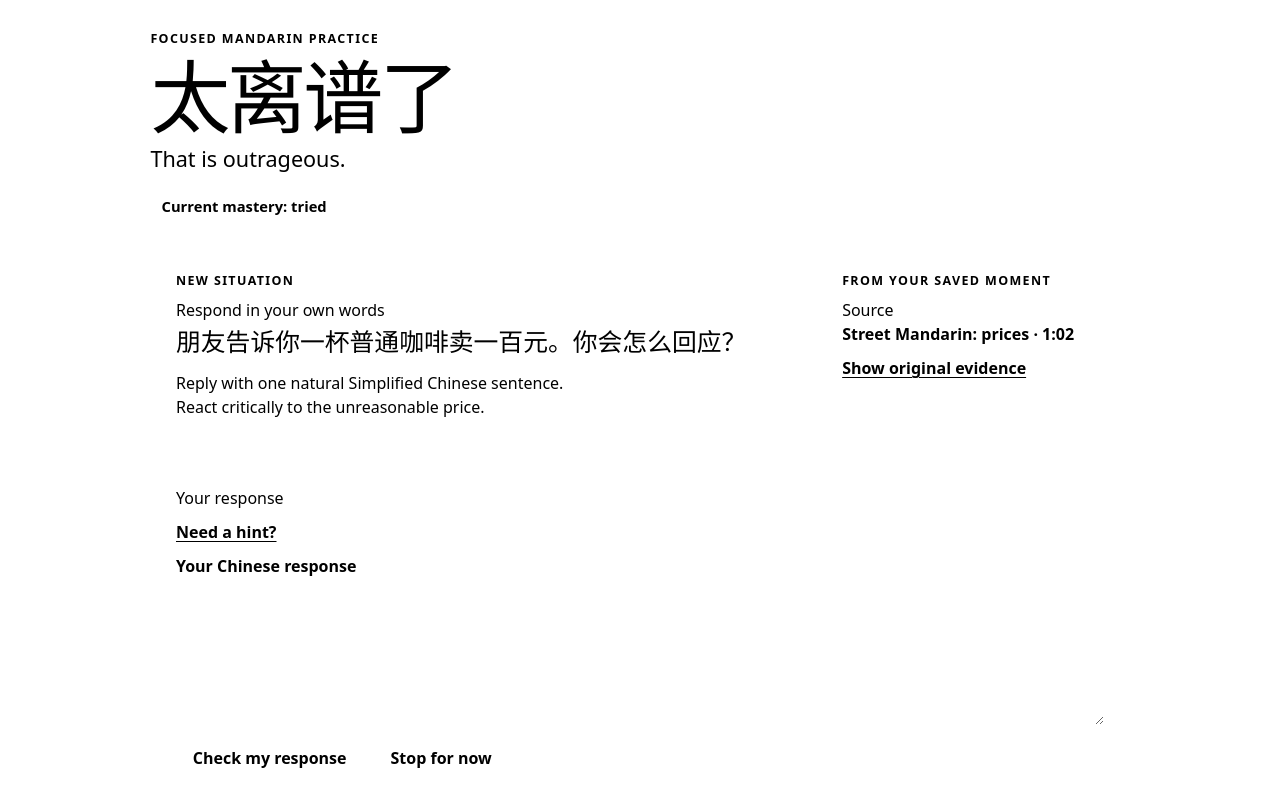
Test: PracticeSession › links a passing independent first attempt to its internal Vault destination
In the text box labelled "Your Chinese response": (640, 657) [176,589,1104,725], type "这个价格也太离谱了。"
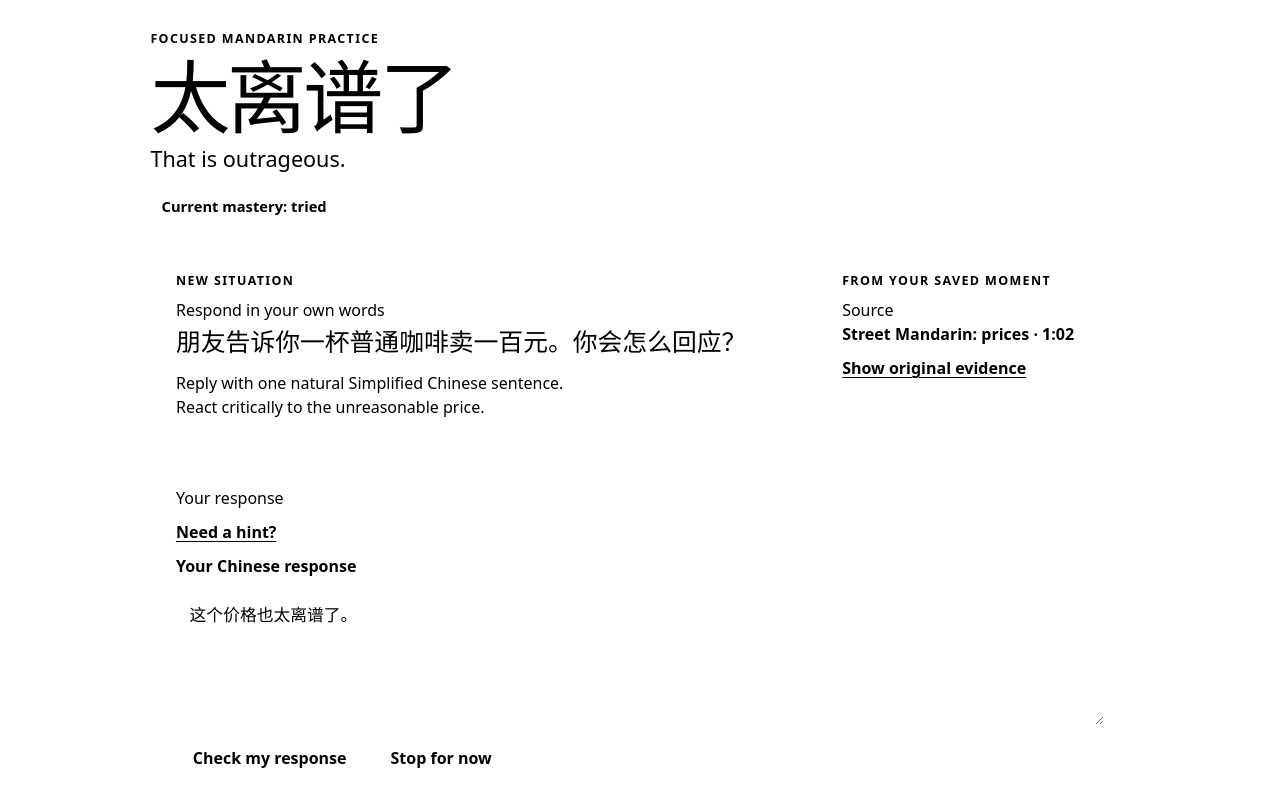
Click the button "Check my response": (270, 758) [176,735,363,781]
(page scrolled)
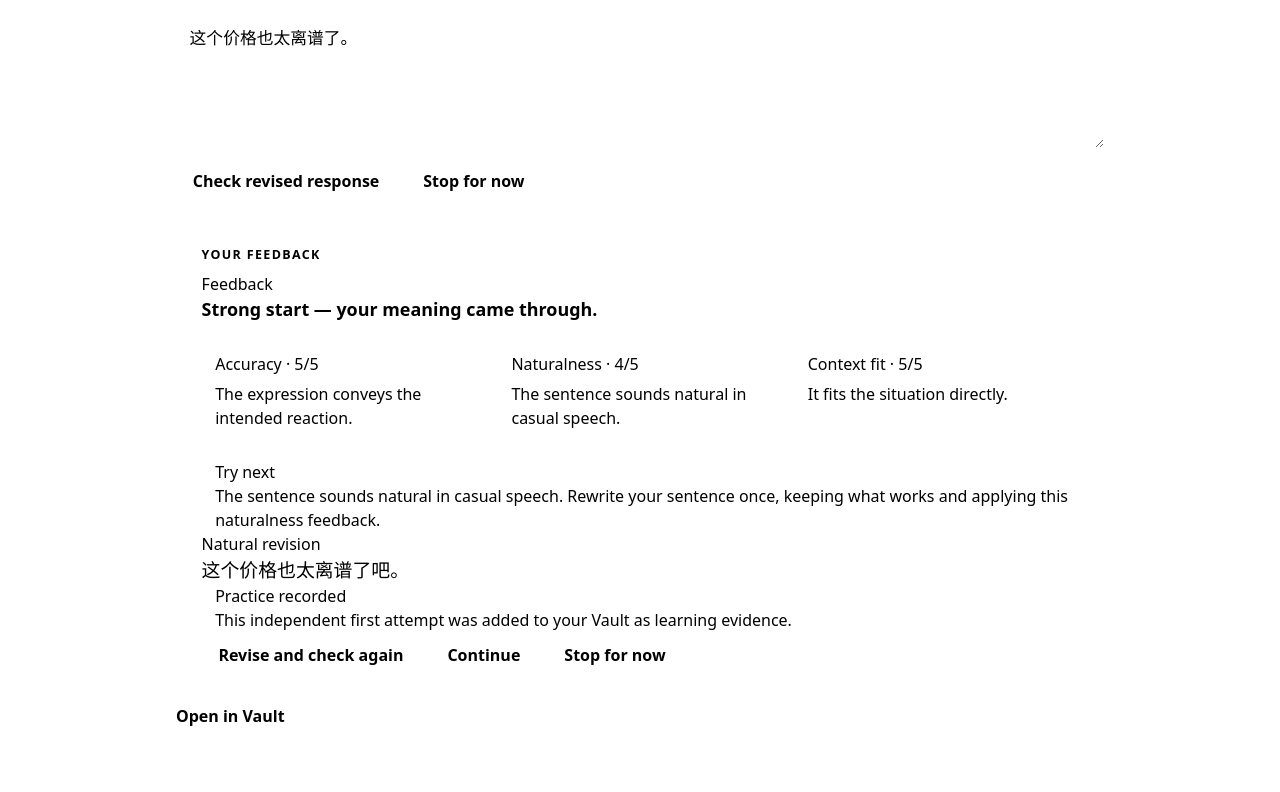
expect the text "added to your Vault as learning evidence" is shown: met, box [215,609,792,631]
